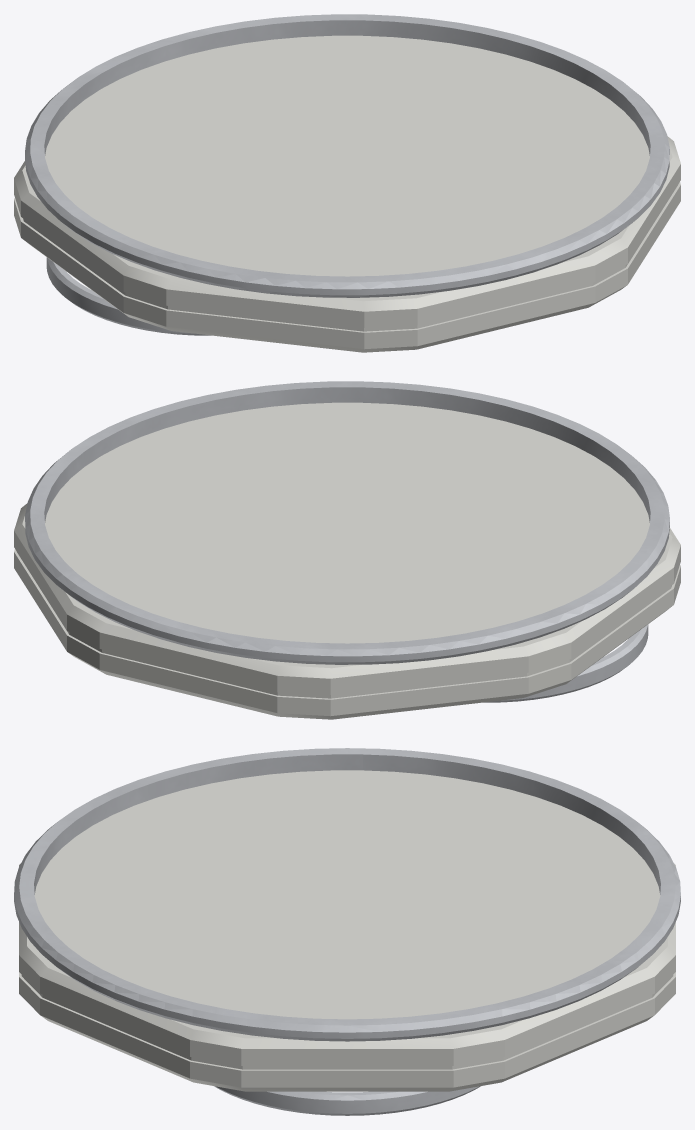
The model's file is ax_struct_14_multi_mount_m_x2.glb.
3 renders of one model, top to bottom at view 1: azimuth 30°, elevation 25°; view 2: azimuth 150°, elevation 25°; view 3: azimuth 270°, elevation 25°, orthographic. The views are drawn at different scales.
Parts seen in each view (by area): view 1: mount_plate, top_ring, mount_rings; view 2: mount_plate, top_ring, mount_rings; view 3: mount_plate, top_ring, mount_rings.
Boxes of the visible parts, x1,y1,x2,y2 form: mount_plate: [14, 35, 680, 352]; top_ring: [25, 14, 669, 297]; mount_rings: [46, 257, 210, 335]; mount_plate: [14, 402, 680, 719]; top_ring: [25, 381, 669, 664]; mount_rings: [484, 624, 648, 702]; mount_plate: [19, 770, 675, 1091]; top_ring: [14, 748, 680, 1041]; mount_rings: [214, 1086, 480, 1115].
Size of the model in its own units: 2.5 by 0.371 by 2.5.
Materials: 2 (1 with a texture image).
